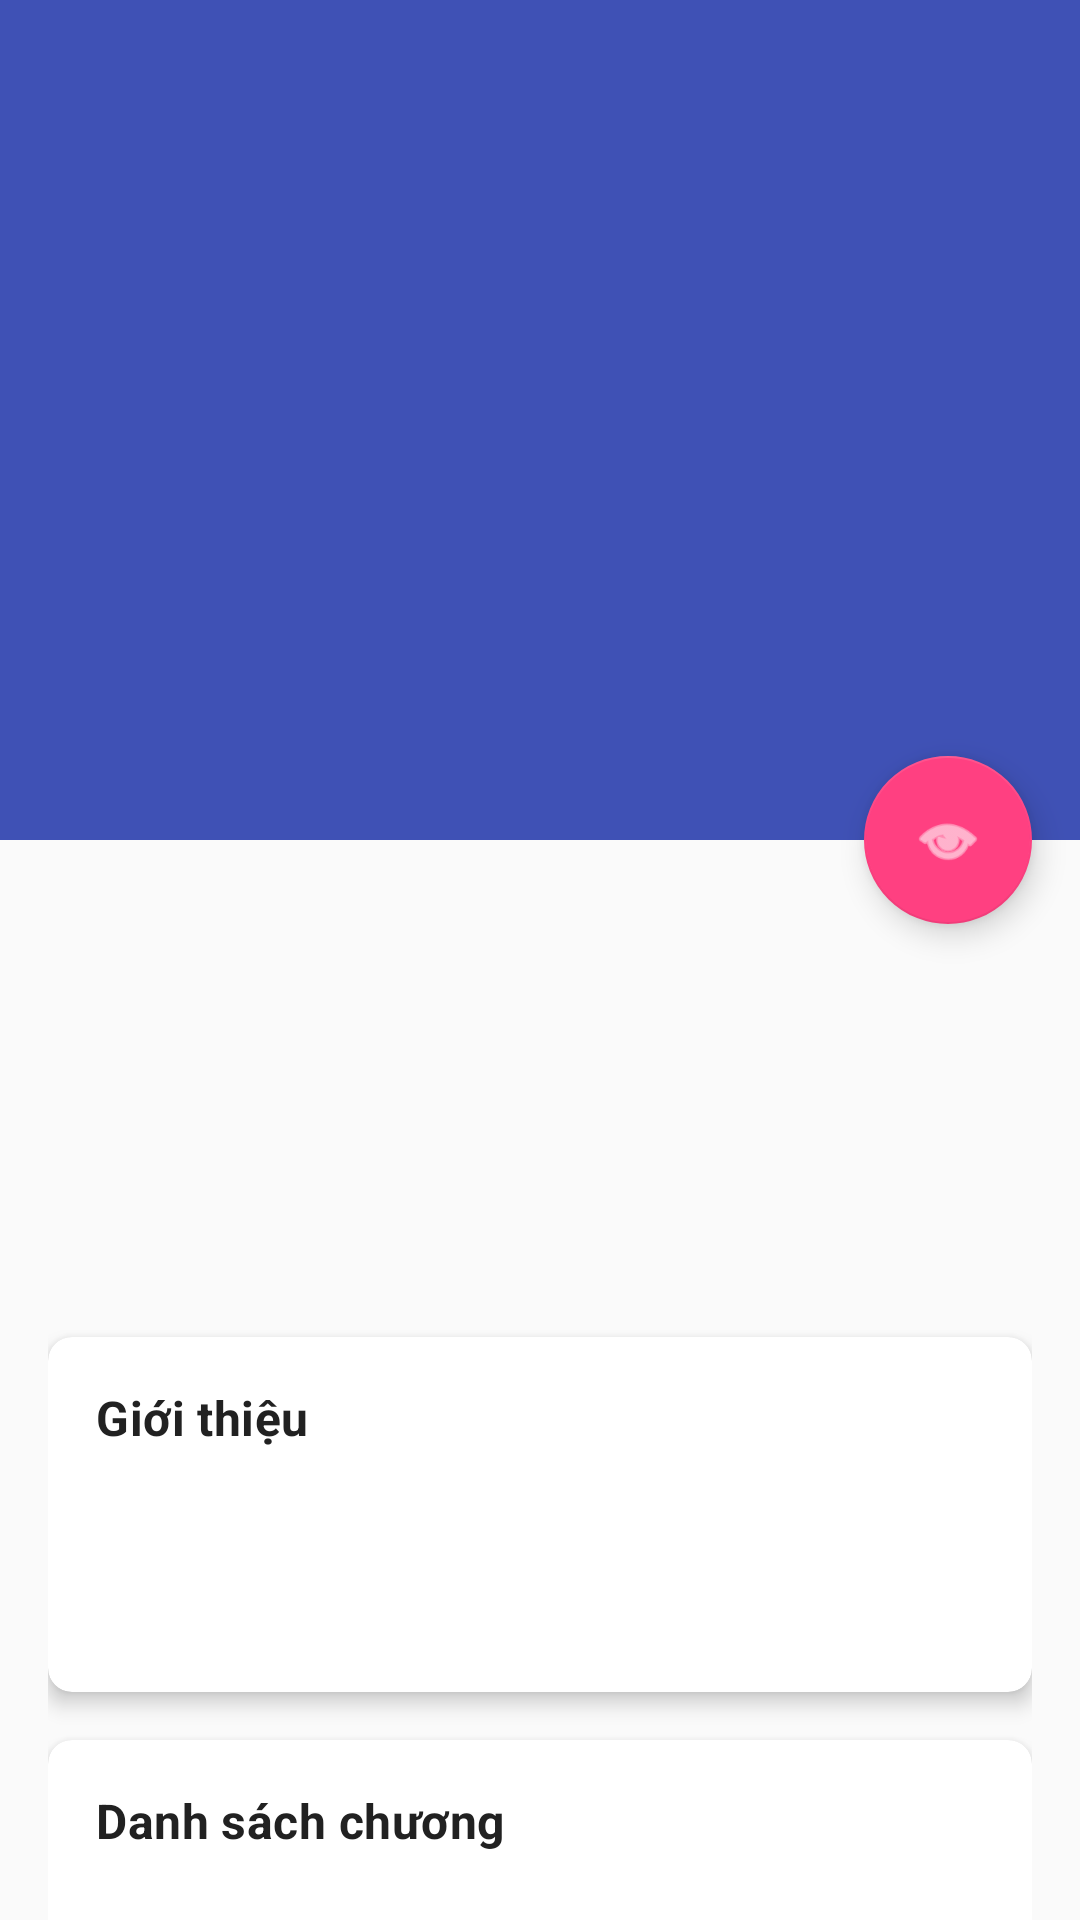

Icons on this 1080px×1920px Android screen, each with the point to tap as point (x, y):
Đọc truyện: point (948, 840)
